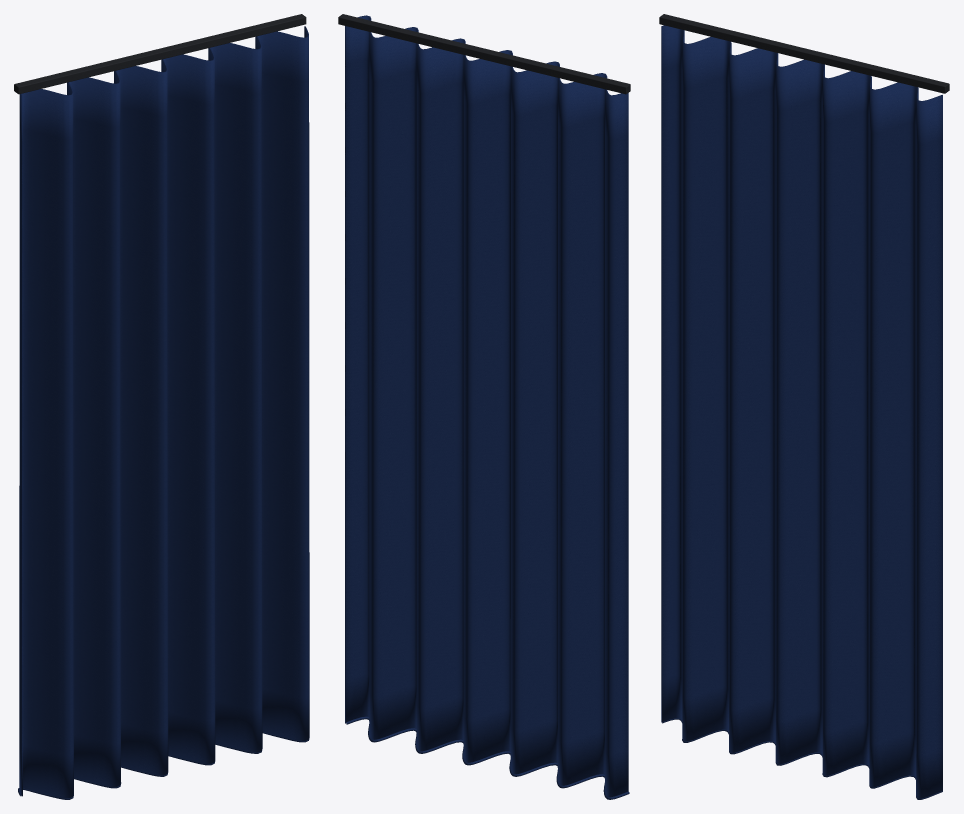
File: 26_curtain_left.glb
The picture shows the model from 3 angles, left to right: view 1: azimuth 30°, elevation 25°; view 2: azimuth 150°, elevation 25°; view 3: azimuth 330°, elevation 25°; orthographic projection.
Visible parts, largest first — view 1: 26_curtain_left__folded_fabric, 26_curtain_left__top_hanging_rail, 26_curtain_left__bottom_hem; view 2: 26_curtain_left__folded_fabric, 26_curtain_left__top_hanging_rail, 26_curtain_left__bottom_hem; view 3: 26_curtain_left__folded_fabric, 26_curtain_left__top_hanging_rail, 26_curtain_left__bottom_hem.
Boxes of the visible parts, bbox=[...] form: 26_curtain_left__folded_fabric: bbox=[19, 26, 309, 798]; 26_curtain_left__top_hanging_rail: bbox=[14, 14, 306, 94]; 26_curtain_left__bottom_hem: bbox=[18, 732, 309, 799]; 26_curtain_left__folded_fabric: bbox=[345, 15, 628, 797]; 26_curtain_left__top_hanging_rail: bbox=[338, 14, 630, 94]; 26_curtain_left__bottom_hem: bbox=[346, 716, 629, 799]; 26_curtain_left__folded_fabric: bbox=[661, 25, 942, 798]; 26_curtain_left__top_hanging_rail: bbox=[659, 14, 949, 93]; 26_curtain_left__bottom_hem: bbox=[662, 718, 942, 799].
Size of the model in its own units: 1.63 by 3.86 by 0.228.
Materials: 2 (2 with a texture image).
